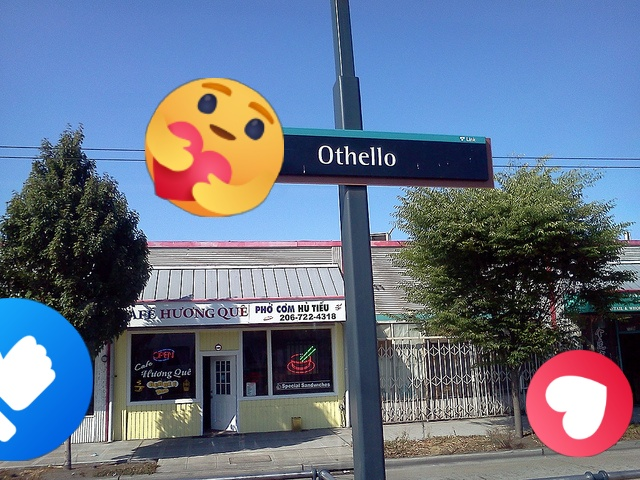care: (145, 78, 284, 217)
like: (0, 298, 93, 461)
love: (526, 350, 633, 457)
